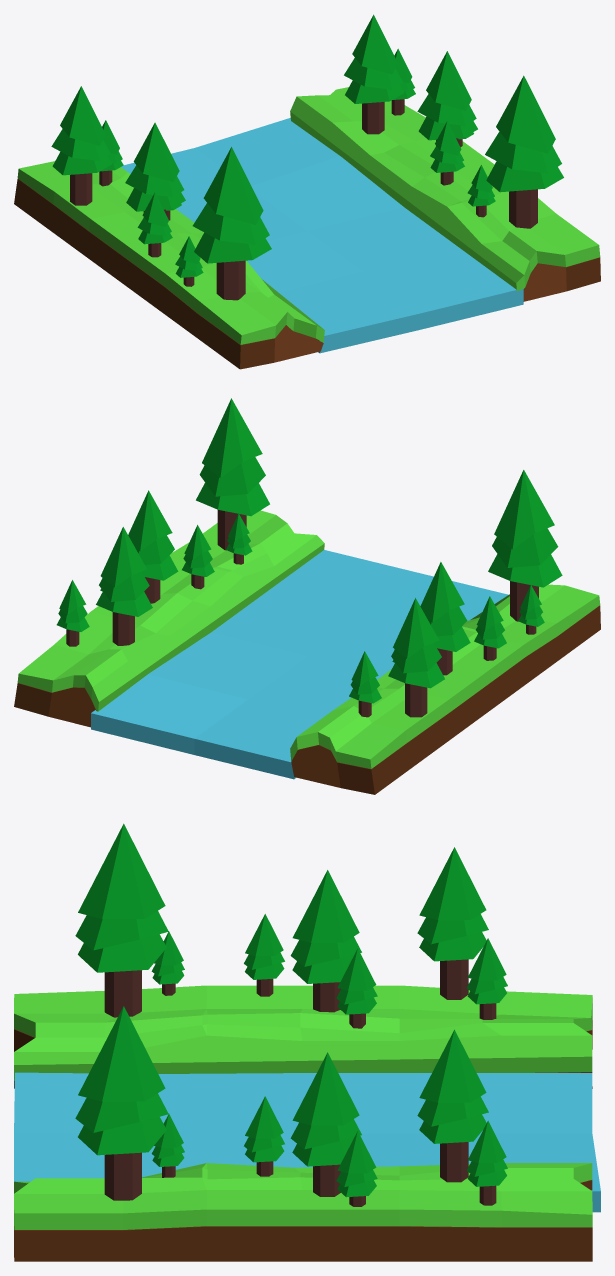
File: River_Map.glb
3 renders of one model, top to bottom at view 1: azimuth 30°, elevation 25°; view 2: azimuth 150°, elevation 25°; view 3: azimuth 270°, elevation 25°, orthographic. The views are drawn at different scales.
Visible parts, largest first — view 1: Tree.013; view 2: Tree.013; view 3: Tree.013.
Boxes of the visible parts, <box> form: Tree.013: <box>14,14,600,369</box>; Tree.013: <box>14,398,600,794</box>; Tree.013: <box>14,823,600,1261</box>.
Size of the model in its own units: 28.72 by 13.77 by 30.45.
